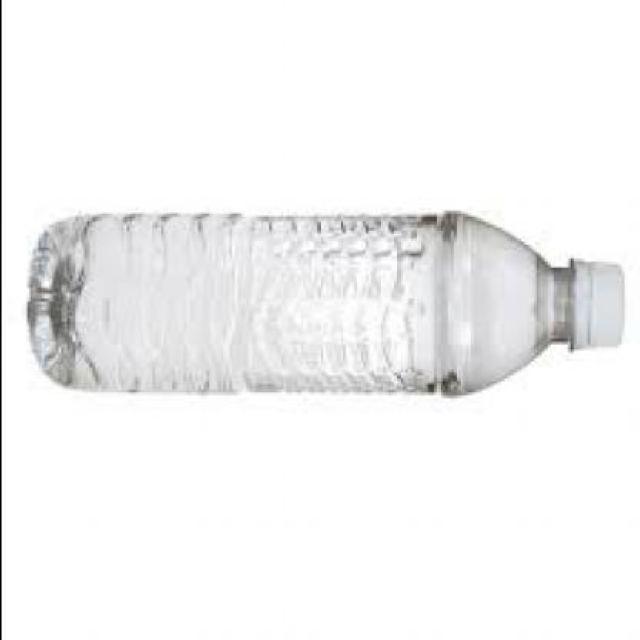PLASTIC: (29, 213, 626, 401), (574, 262, 626, 356)
